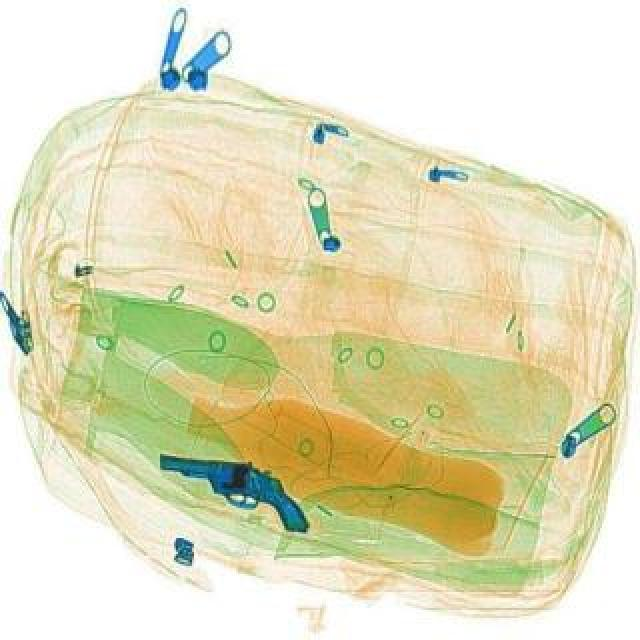gun: (148, 434, 328, 534)
